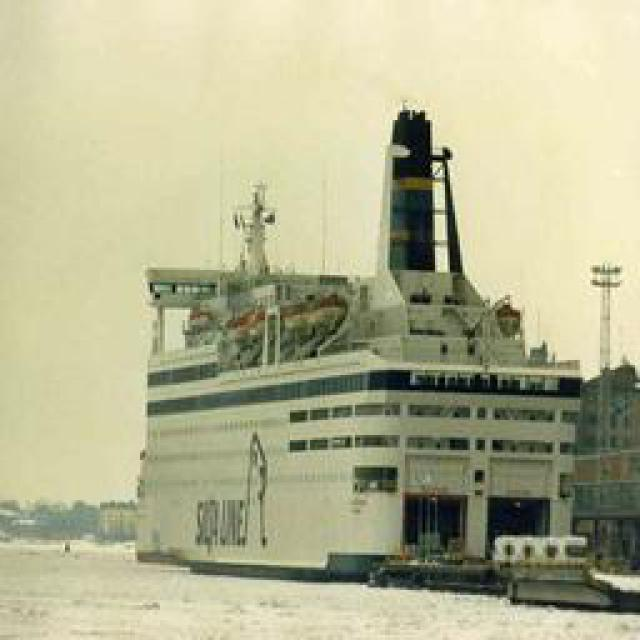Ship: (97, 97, 600, 598)
